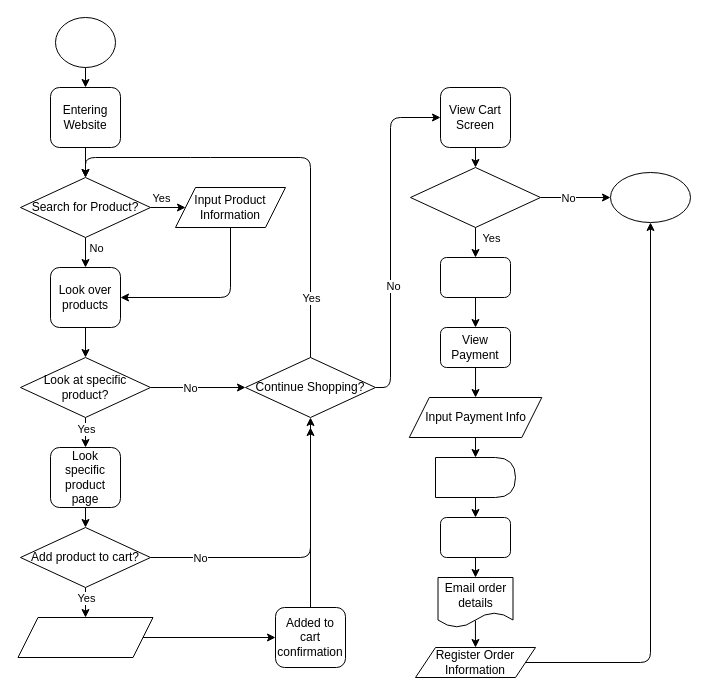
Image size: 708x695. Some labels were removed from this diagram. The shapes that lost their labels are listed below. From the top down, each one's centre as x and y in pixels, then its label:
At [85,42]: "Start".
At [475,197]: "Checkout?".
At [650,197]: "Exit Website".
At [475,277]: "View Cart".
At [475,477]: "Wait for Payment Confirmation".
At [475,537]: "Order Confirmation".
At [85,637]: "Add product to cart".
